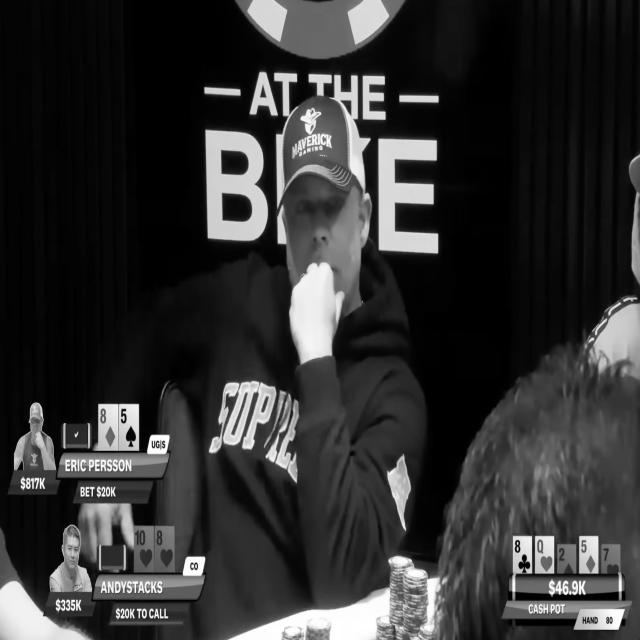10H: (134, 526, 154, 572)
2D: (557, 544, 577, 574)
5D: (580, 536, 598, 574)
5S: (118, 404, 140, 451)
7H: (602, 544, 620, 575)
8C: (514, 536, 532, 574)
8D: (98, 404, 119, 449)
8H: (154, 526, 174, 573)
QH: (536, 536, 554, 574)
